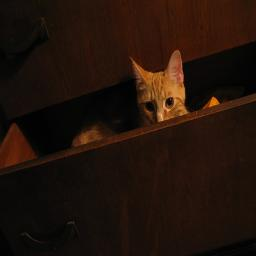catnose: (155, 118, 164, 122)
